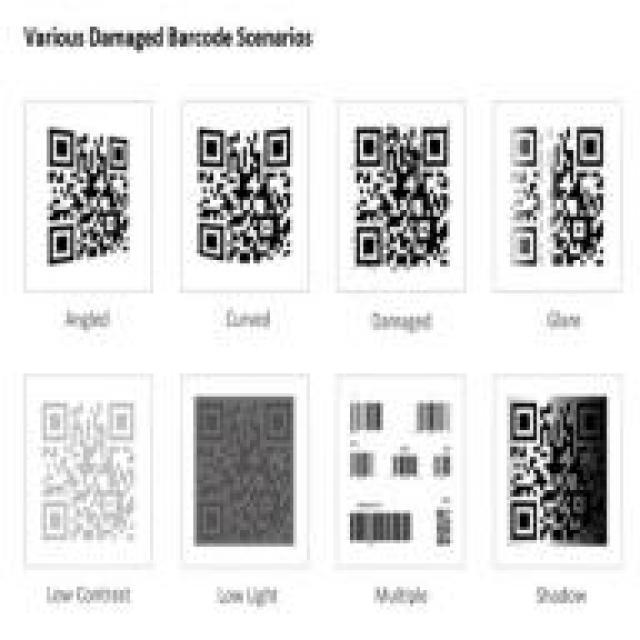qr_code: (195, 402, 292, 545), (354, 125, 450, 269), (509, 127, 605, 269), (39, 400, 135, 542), (510, 400, 606, 541), (196, 125, 292, 265), (46, 127, 131, 268)
